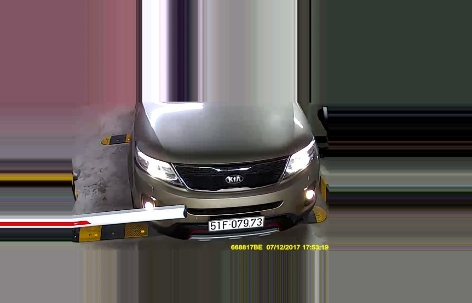plate: (208, 213, 266, 234)
